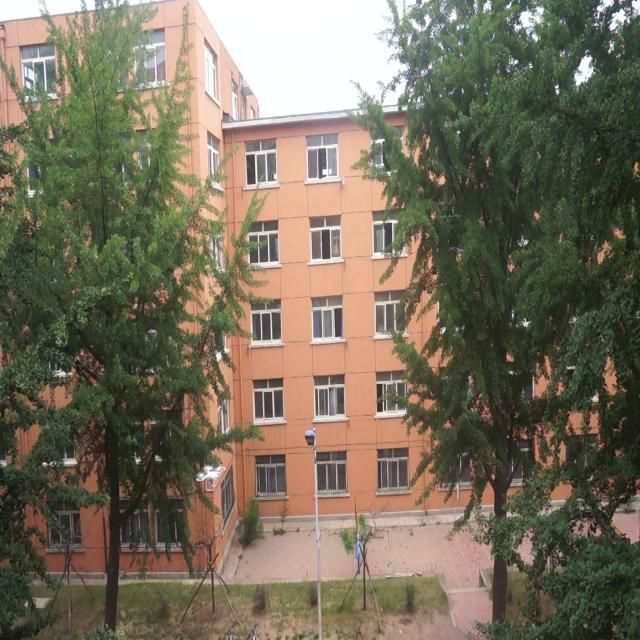drone: (195, 464, 227, 490)
